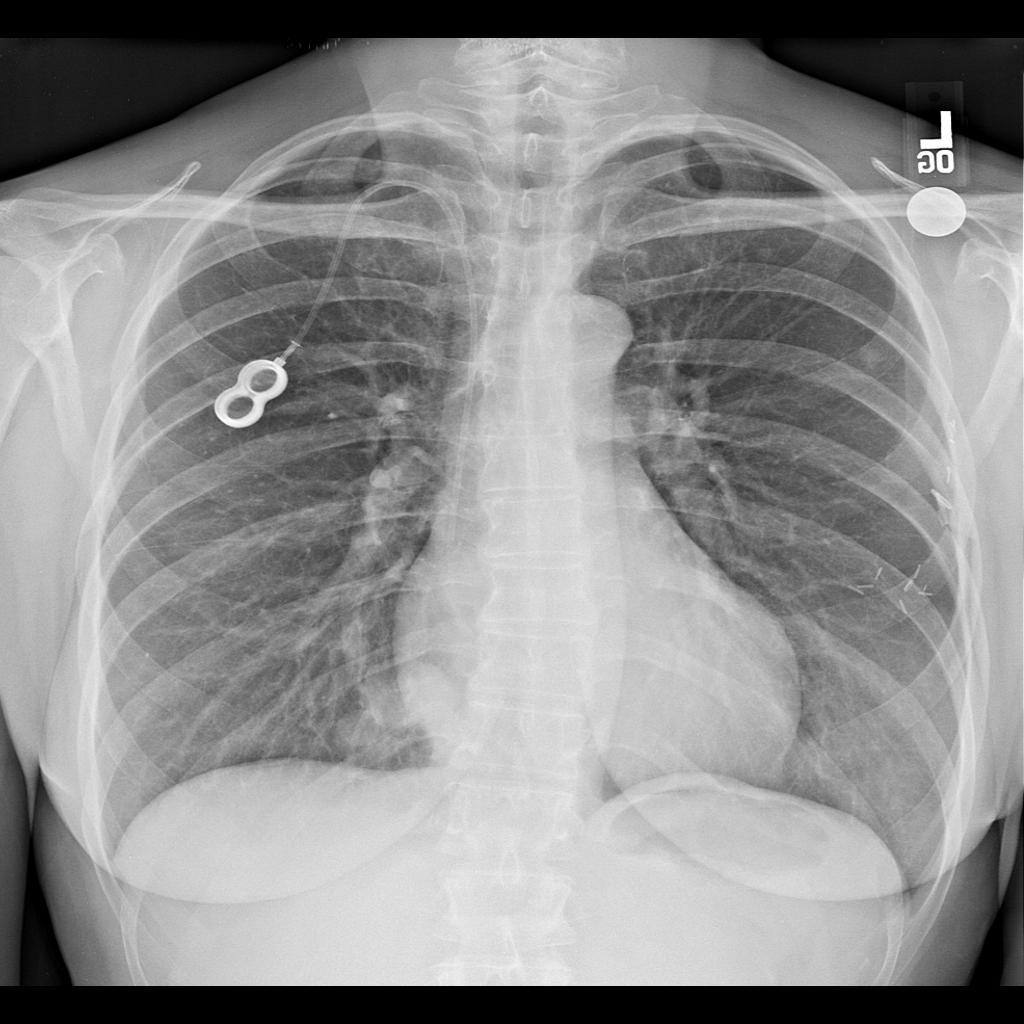Nodule: (361, 667, 451, 722), (337, 710, 390, 765), (858, 348, 890, 379)
